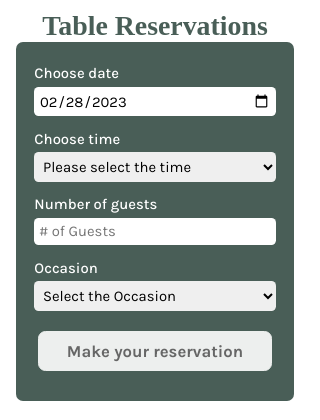
Test: Booking Form Testing Form Submission › disables submit button when form is invalid
The width and height of the screenshot is (320, 420).
Expected: the button "Make your reservation" is disabled, [38, 331, 272, 371]
Type "2023-03-01" into the date field labelled "Choose date" at [155, 102], box [34, 87, 276, 116]
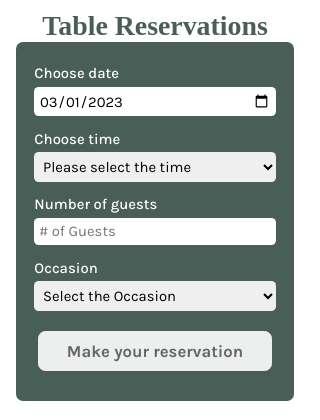
Expected: the button "Make your reservation" is disabled, [38, 331, 272, 371]
Select "18:00" in the dropdown labelled "Choose time" at [155, 167], box [34, 152, 276, 182]
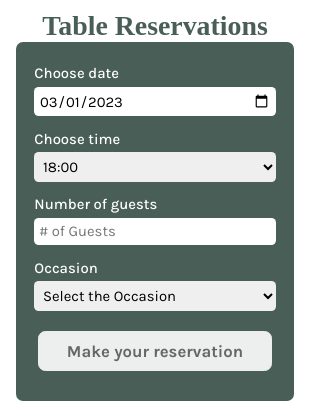
Expected: the button "Make your reservation" is disabled, [38, 331, 272, 371]
Type "2" into the number field labelled "Number of guests" at [155, 232], box [34, 218, 276, 245]
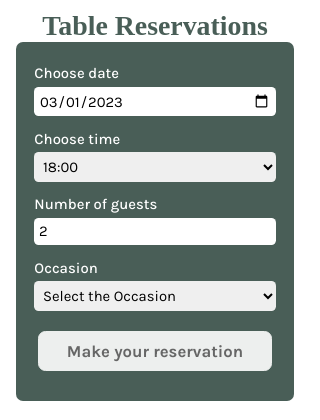
Expected: the button "Make your reservation" is disabled, [38, 331, 272, 371]
Select "Anniversary" in the dropdown labelled "Occasion" at [155, 296], box [34, 281, 276, 311]
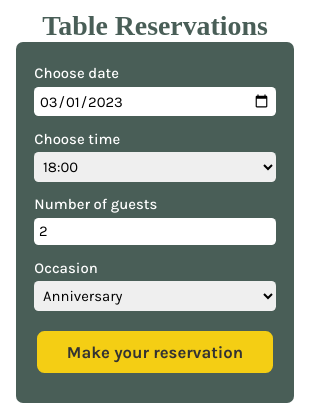
Result: the button "Make your reservation" is enabled at [37, 331, 273, 373]
